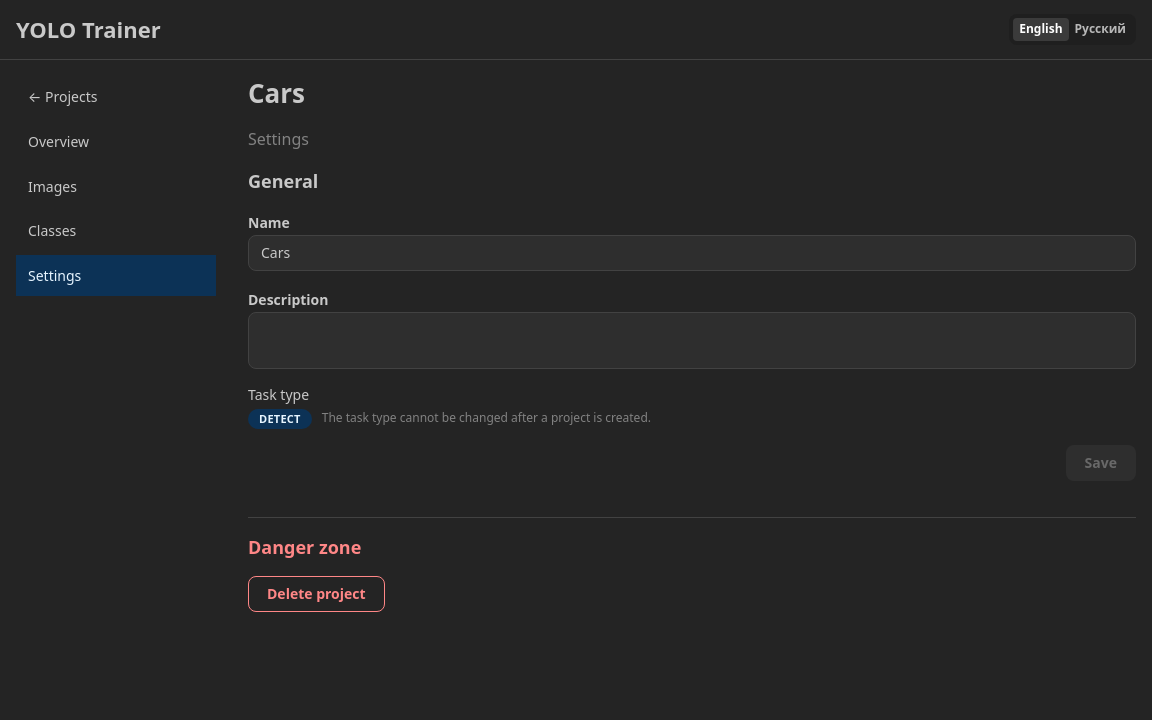
Scenario: DeleteProjectModal › disables the confirm button until the exact, case-sensitive project name is typed
This screenshot has width=1152, height=720.
Click the button "Delete project" at {"x": 316, "y": 594}, box [248,576,385,612]
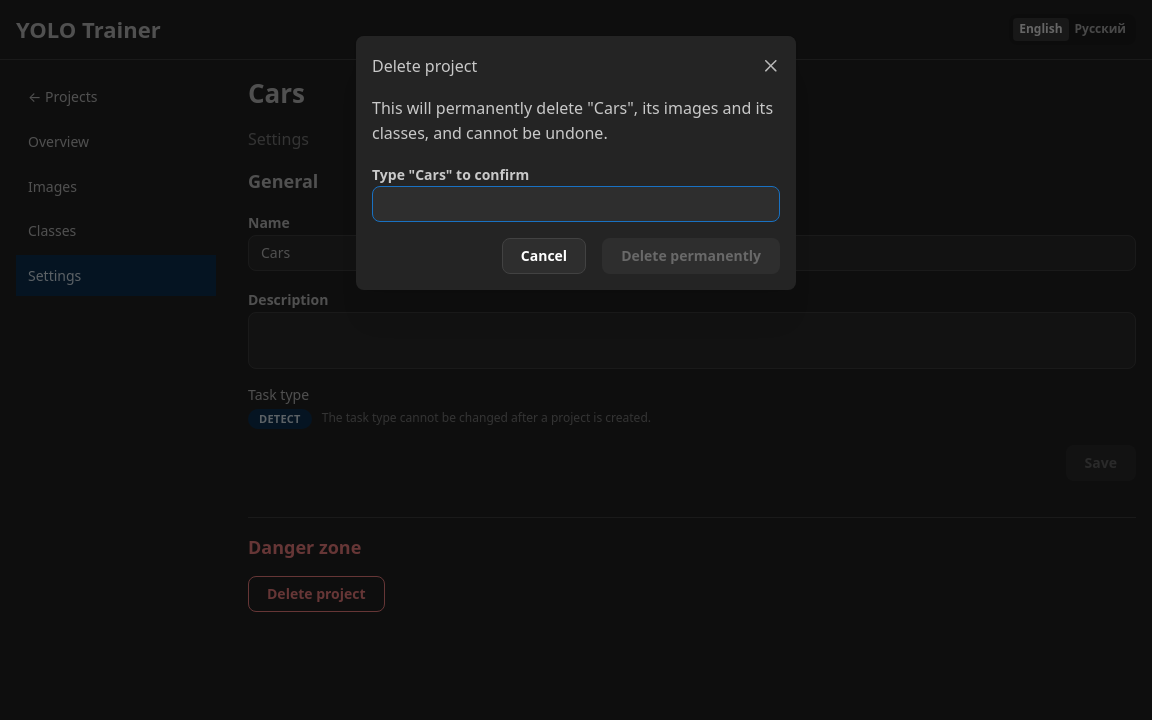
Now the button "Delete permanently" is disabled, box [602,238,780,274]
Type "cars" into the field labelled "Type \"Cars\" to confirm" at {"x": 576, "y": 204}, box [372,186,780,222]
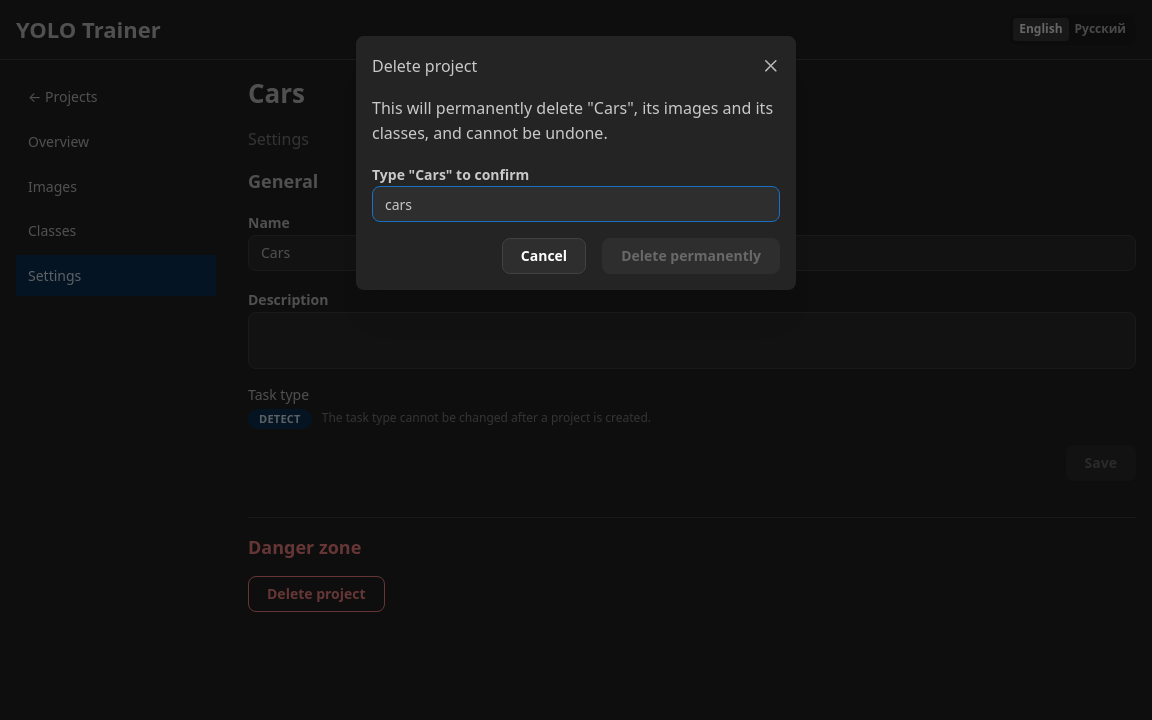
Now the button "Delete permanently" is disabled, box [602,238,780,274]
Replace the text in the field labelled "Type \"Cars\" to confirm" with "Car" at {"x": 576, "y": 204}, box [372,186,780,222]
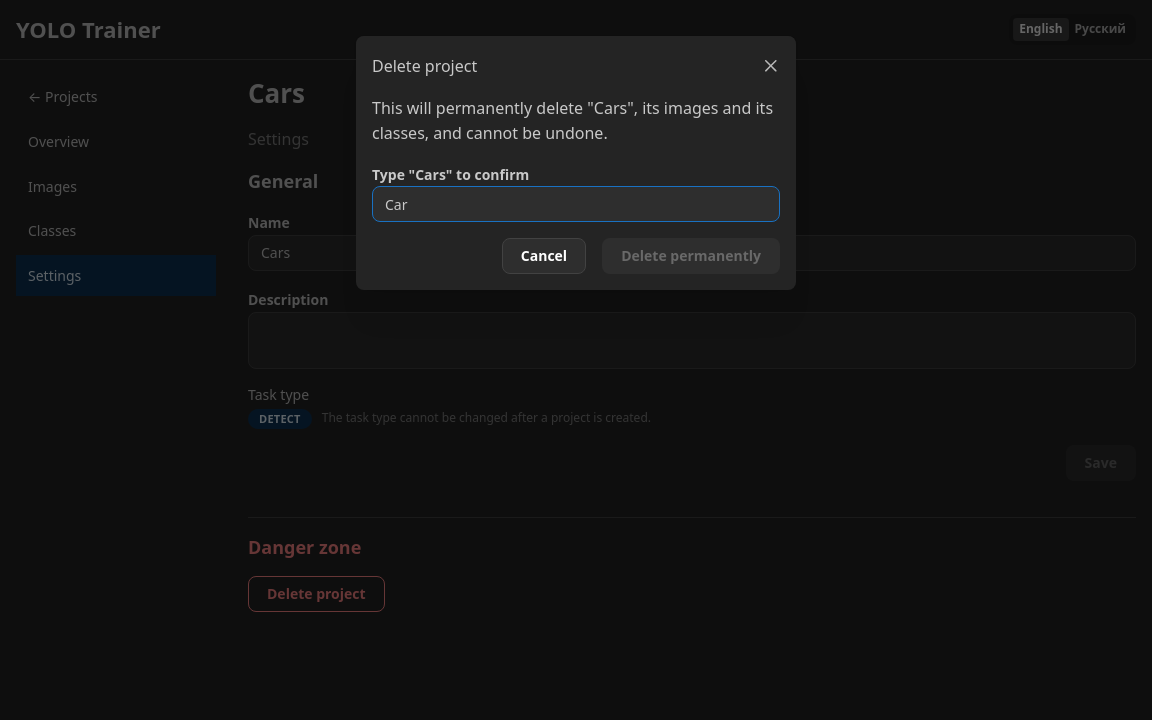
Now the button "Delete permanently" is disabled, box [602,238,780,274]
Replace the text in the field labelled "Type \"Cars\" to confirm" with "Cars" at {"x": 576, "y": 204}, box [372,186,780,222]
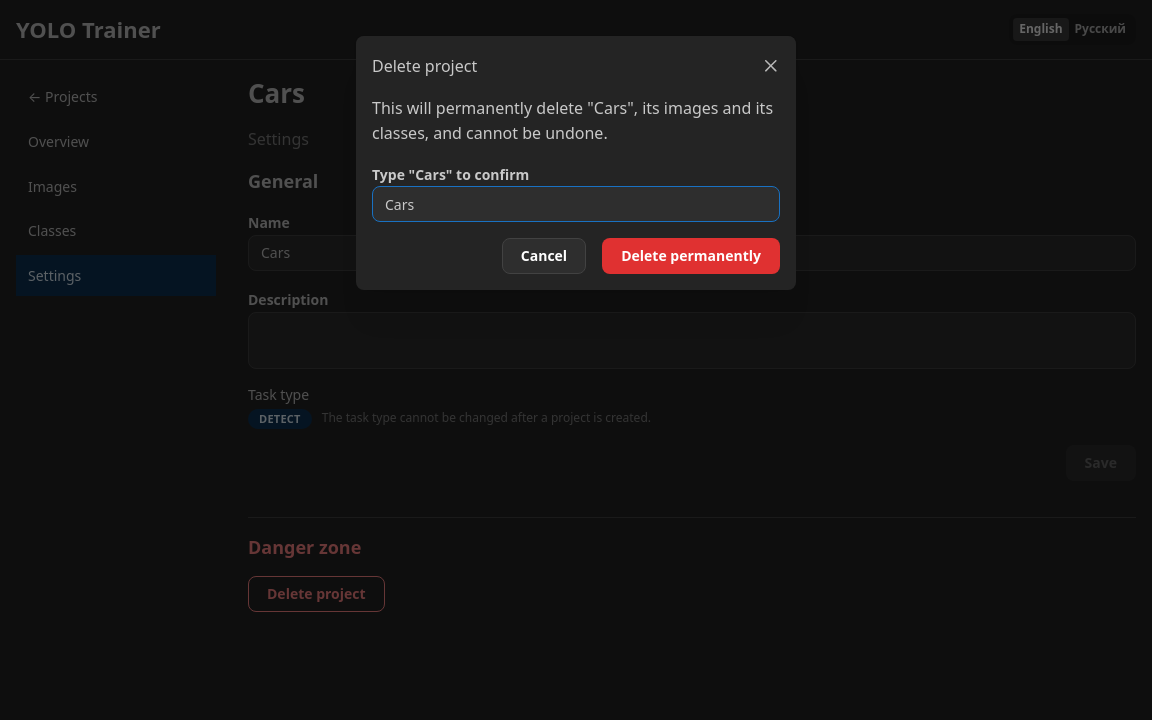
Now the button "Delete permanently" is enabled, box [602,238,780,274]
